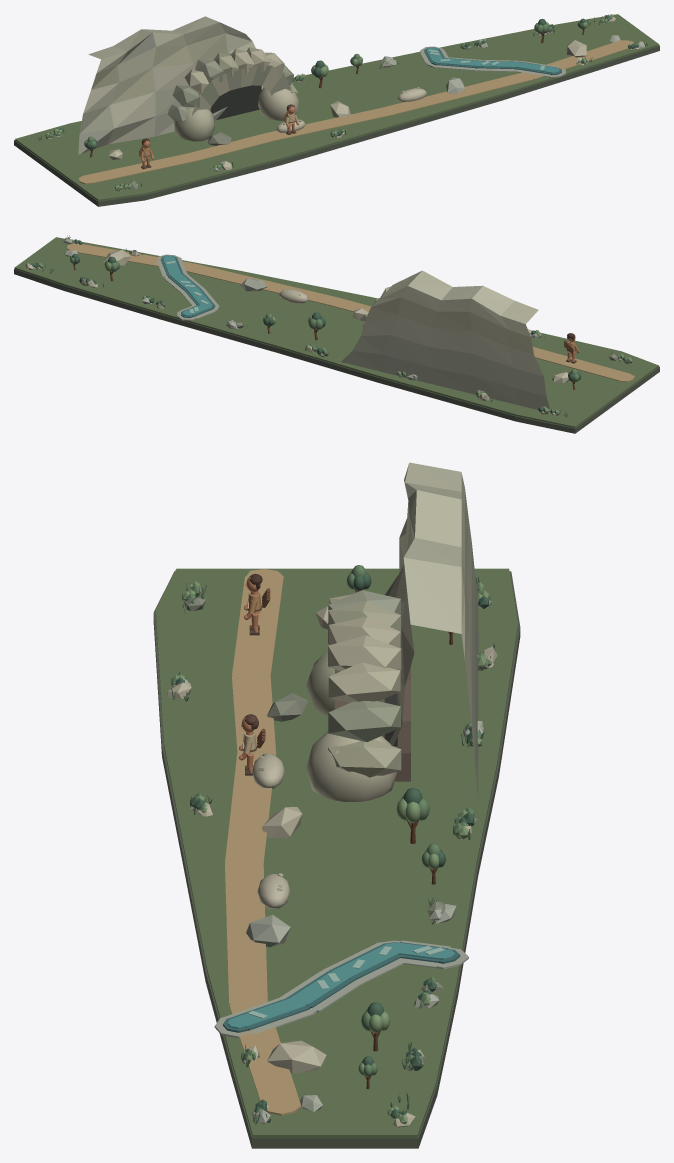
File: zhoukoudian.glb
3 renders of one model, top to bottom at view 1: azimuth 30°, elevation 25°; view 2: azimuth 150°, elevation 25°; view 3: azimuth 270°, elevation 25°, orthographic. The views are drawn at different scales.
Visible parts, largest first — view 1: TerrainAndBuildings; view 2: TerrainAndBuildings; view 3: TerrainAndBuildings.
Part boxes in pixels (x1,y1,x2,y2): TerrainAndBuildings: [14, 14, 659, 206]; TerrainAndBuildings: [14, 235, 659, 433]; TerrainAndBuildings: [153, 462, 520, 1148].
Bounding box in the file's own units: 1.73 × 0.299 × 0.4717.
